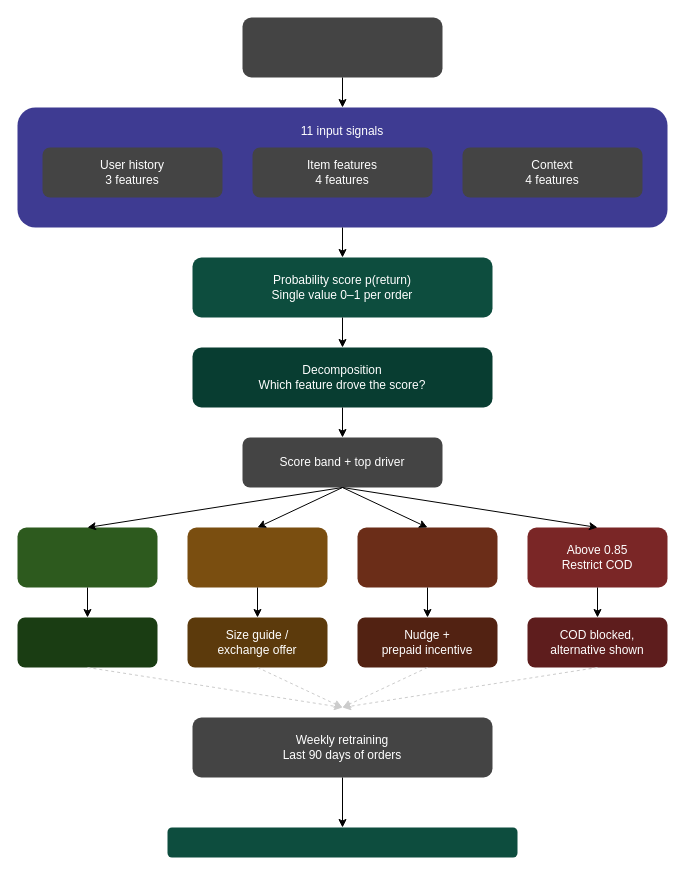
Image size: 684x874. Some labels were removed from this diagram. Each missing label, with the centre of its shape:
"0.40 – 0.70 Soft nudge" belongs at point 257,557.
"0.70 – 0.85 COD friction" belongs at point 427,557.
"Below 0.40 No action" belongs at point 87,557.
"Checkout clear" belongs at point 87,642.
"Measure: return rate, conversion, NPS" belongs at point 342,842.
"Order at checkout" belongs at point 342,47.
